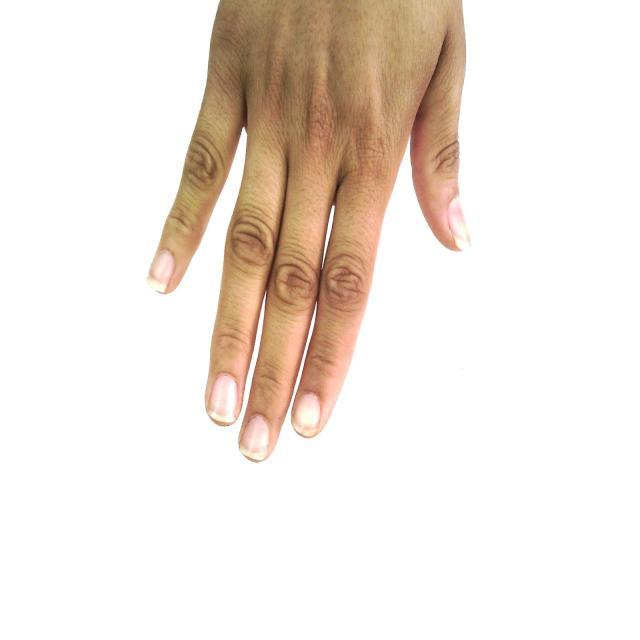Fingernail: (210, 375, 239, 423), (240, 416, 270, 460), (293, 394, 320, 436), (449, 200, 470, 250), (149, 251, 174, 291)
